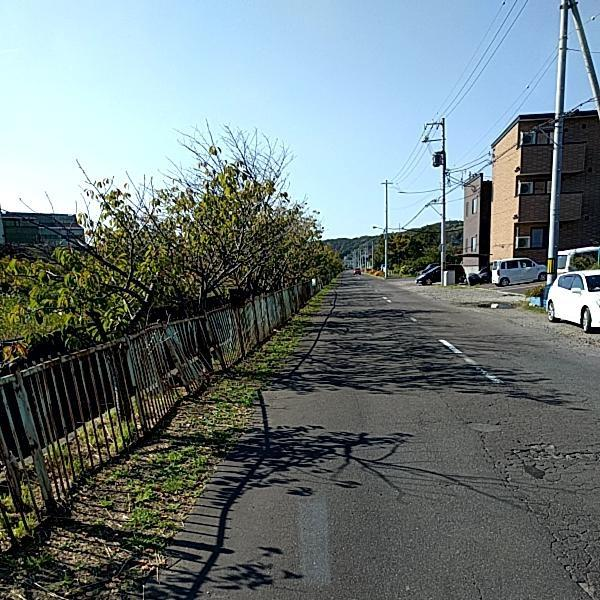pothole: (541, 523, 600, 599), (491, 438, 597, 477)
